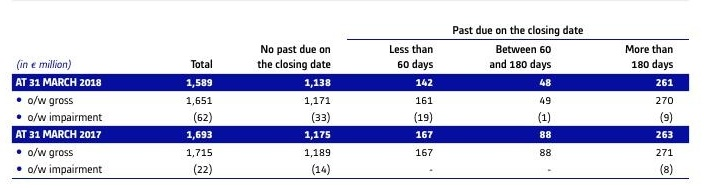table: (0, 0, 704, 188)
